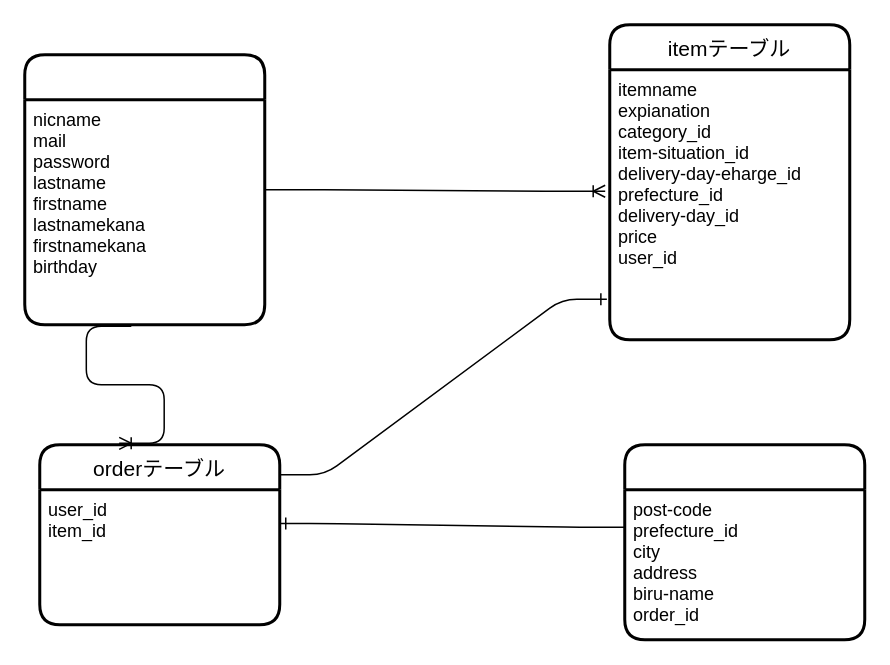
Some shapes in this 890 by 665 pixel diagram are drawn without their labels. Each missing label, with the box of its shape:
addresseテーブル: (622, 442, 866, 640)
userテーブル: (22, 52, 266, 326)
